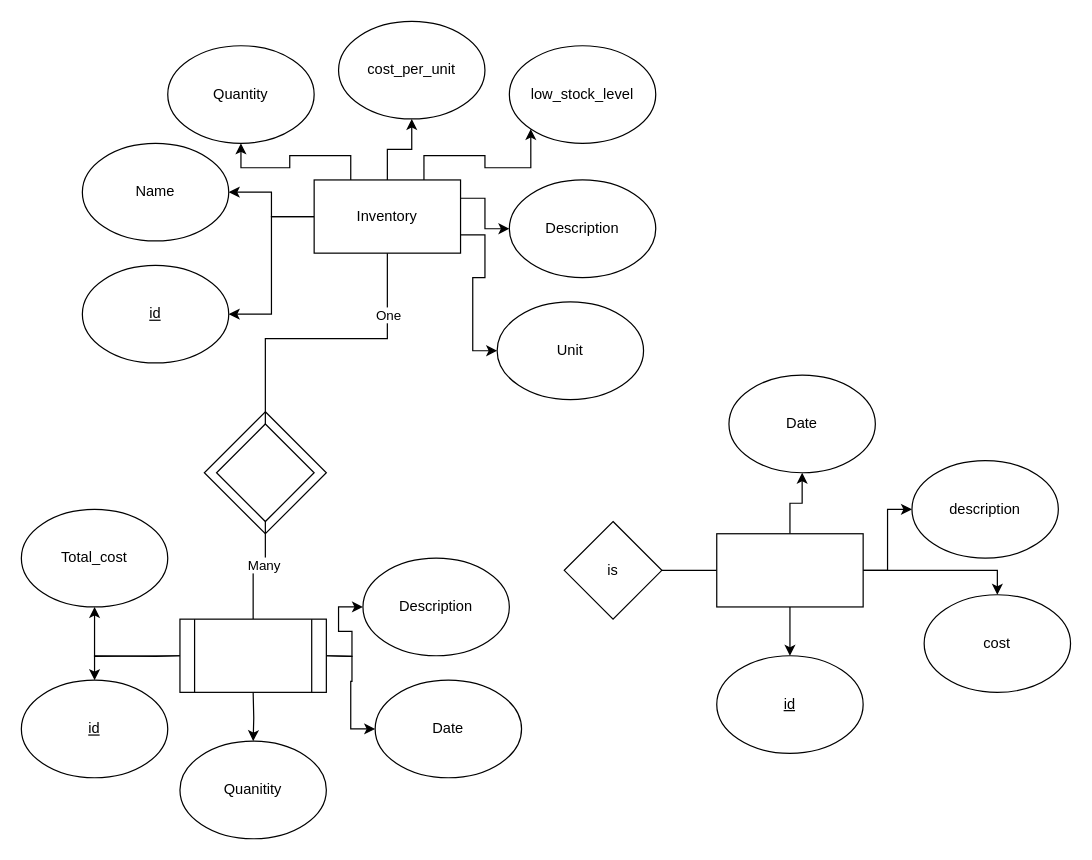
Some shapes in this 1092 by 860 pixel diagram are drawn without their labels. The centre of each missing label's shape, as x and y in pixels:
"GeneralTranscation" goes at pixel 789 570.
"Inventory Transcation" goes at pixel 252 655.
"updates" goes at pixel 264 472.
